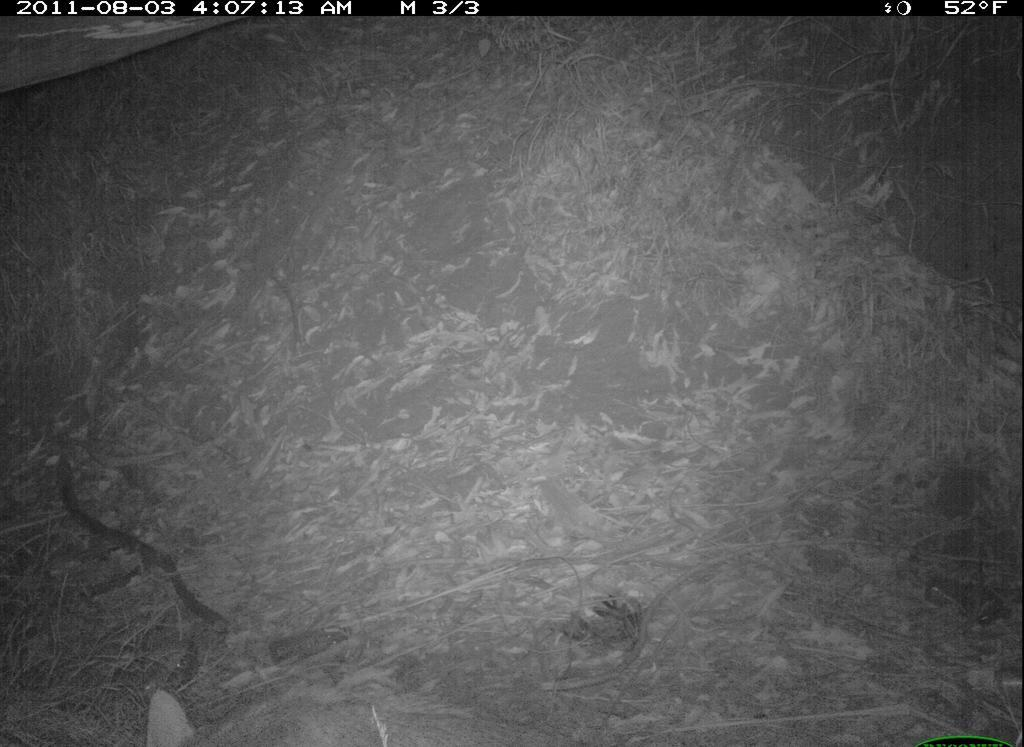coyote: (137, 674, 220, 747)
